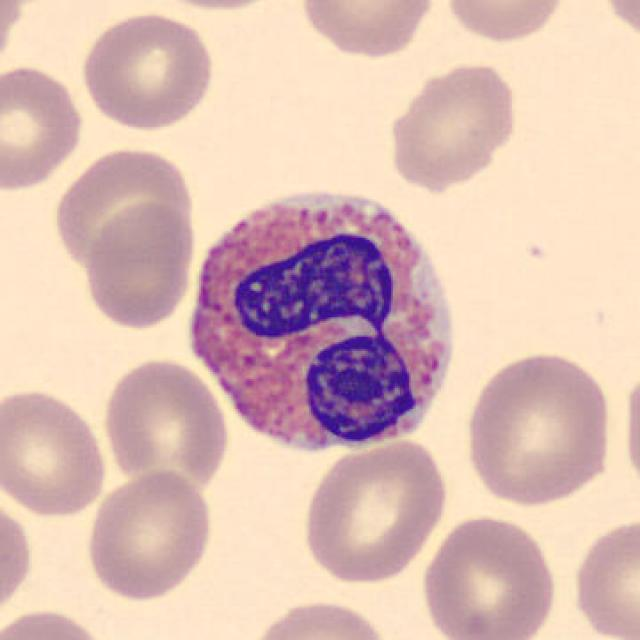Eosinophil: (176, 171, 469, 469)
RBC: (461, 348, 615, 510), (298, 436, 452, 586), (48, 143, 199, 271), (98, 354, 233, 494), (418, 511, 562, 640), (82, 467, 217, 603), (384, 58, 521, 192), (78, 9, 217, 132), (80, 200, 199, 332), (0, 384, 110, 520), (0, 60, 87, 194), (567, 513, 638, 640), (295, 0, 439, 60), (245, 596, 393, 640), (441, 0, 572, 46), (0, 488, 36, 624), (0, 604, 112, 640), (618, 354, 640, 500), (597, 0, 640, 51), (140, 0, 294, 14), (0, 1, 28, 77)
